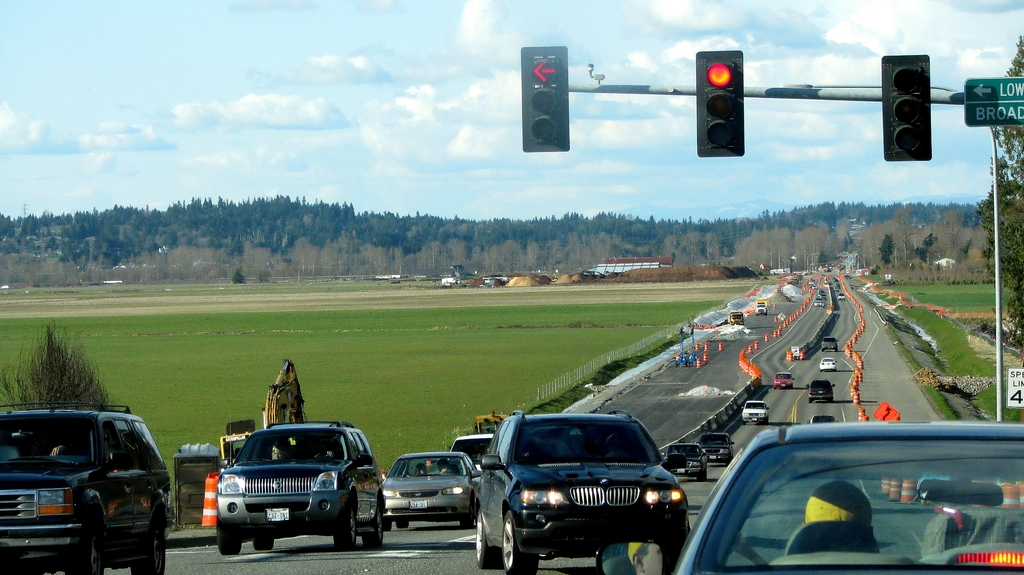left_turn: (531, 60, 557, 83), (968, 79, 996, 99)
no_left_turn: (529, 60, 559, 85)
red_light: (703, 61, 736, 87)
